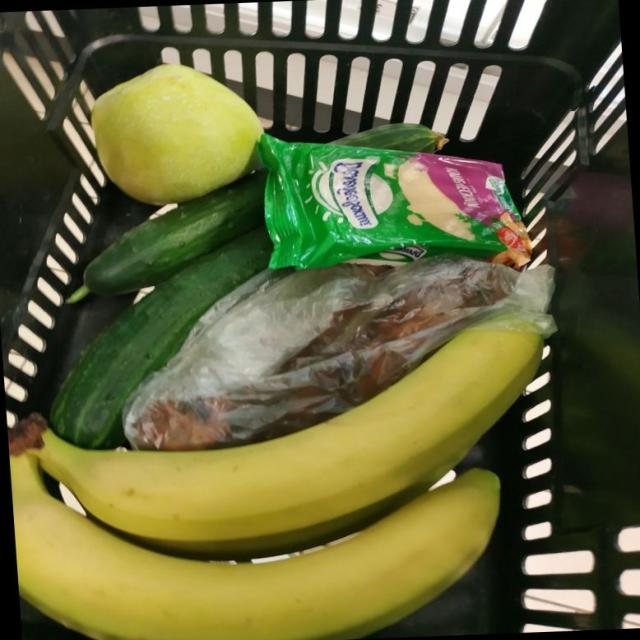Apple: (90, 64, 264, 204)
Banana: (7, 265, 556, 555), (9, 450, 499, 640)
Cheese: (257, 134, 531, 268)
Cucumber: (49, 227, 272, 449), (70, 170, 267, 300), (333, 123, 446, 152)
